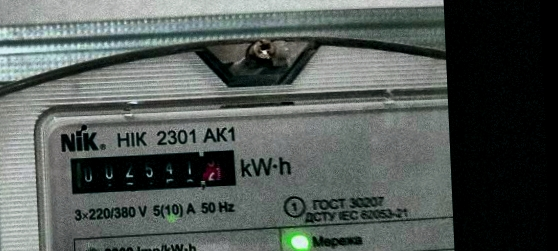0: (81, 161, 95, 183), (102, 159, 115, 180)
1: (183, 153, 195, 177)
2: (122, 157, 137, 179)
4: (163, 154, 174, 175)
5: (142, 156, 156, 179)
6: (205, 168, 217, 181)
screen: (57, 139, 248, 201)
